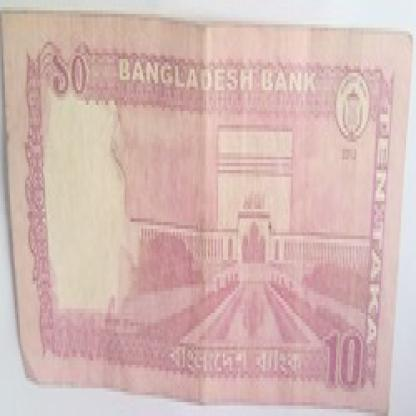Ten Taka: (323, 312, 364, 402), (48, 38, 97, 108)
